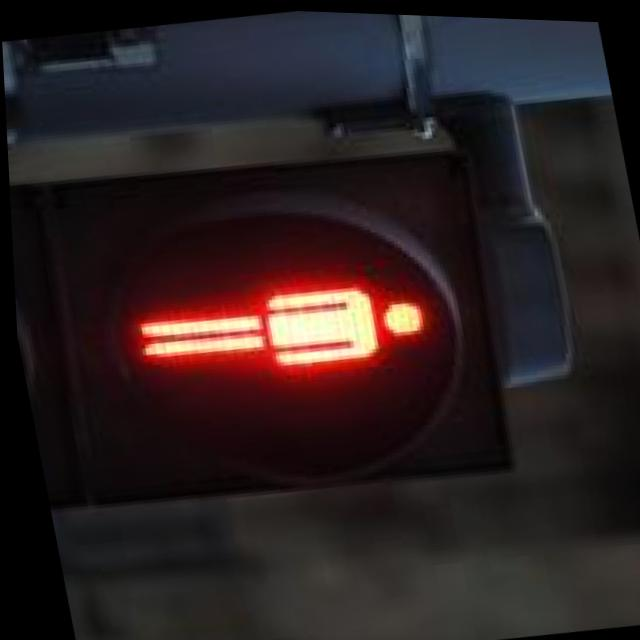red_light: (0, 0, 616, 619)
